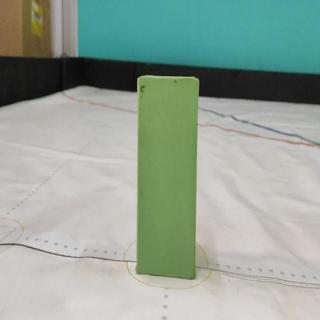greenbox: (137, 76, 198, 280)
